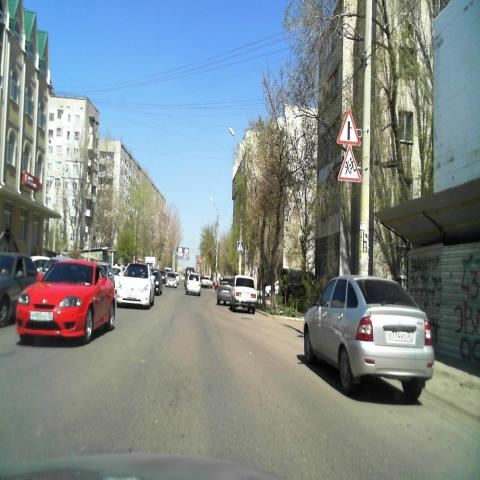2_3_2: (336, 109, 360, 146)
